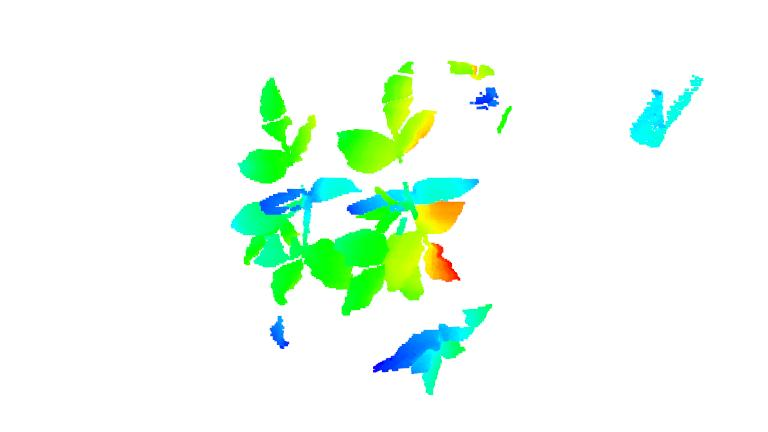mungbean: (336, 56, 479, 315), (230, 73, 353, 309), (368, 300, 497, 397)
